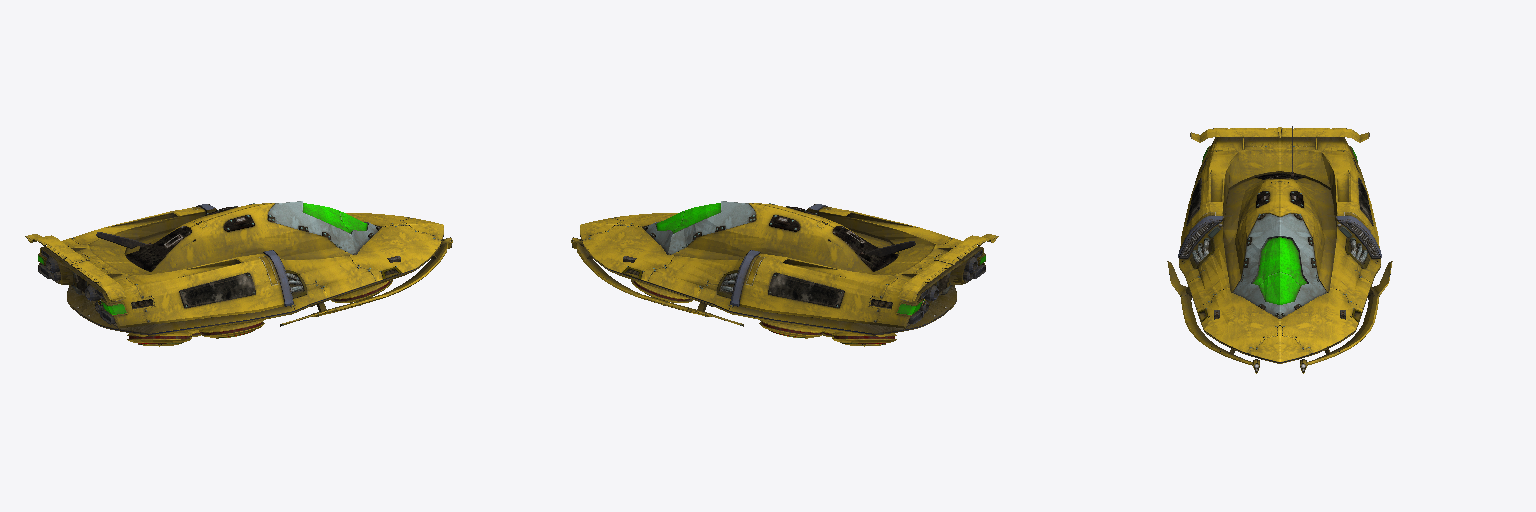
The picture shows the model from 3 angles: view 1: azimuth 30°, elevation 25°; view 2: azimuth 150°, elevation 25°; view 3: azimuth 270°, elevation 25°; orthographic projection.
Parts seen in each view (by area): view 1: polySurface2211; view 2: polySurface2211; view 3: polySurface2211.
Part boxes in pixels (x1,y1,x2,y2): polySurface2211: (25,201,452,346); polySurface2211: (571,201,998,346); polySurface2211: (1167,126,1392,373).
Size of the model in its own units: 17.6 by 5.06 by 9.14.
Materials: 1 (1 with a texture image).